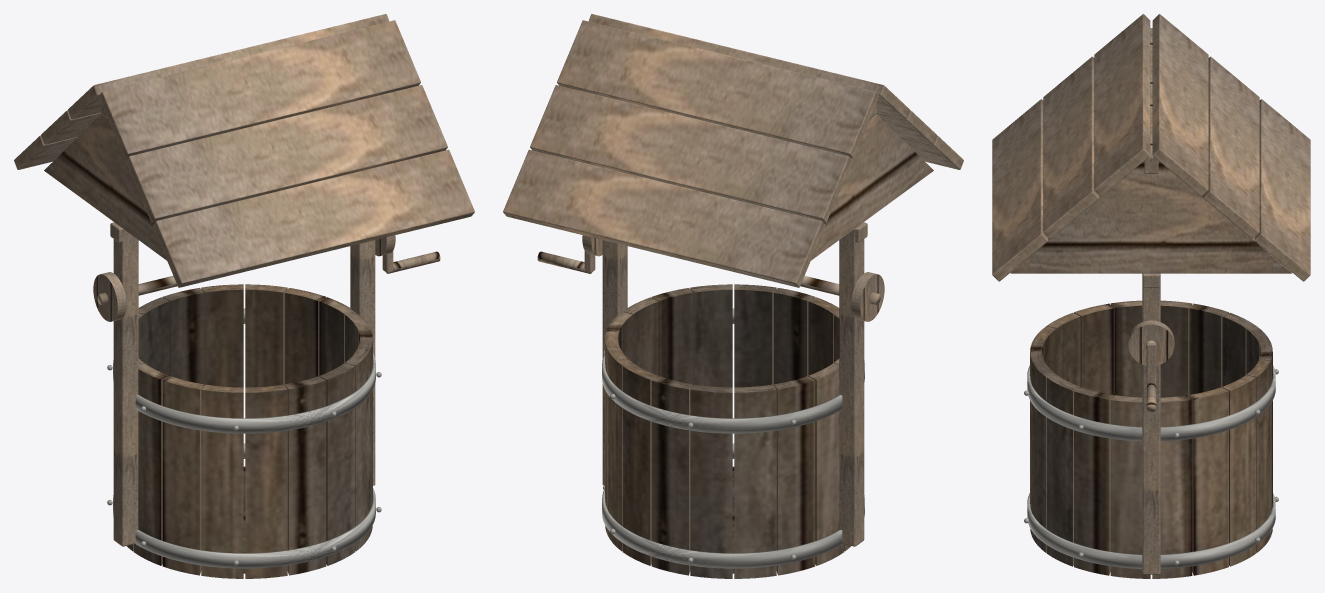
File: Brunnen.glb
3 renders of one model, left to right at view 1: azimuth 30°, elevation 25°; view 2: azimuth 150°, elevation 25°; view 3: azimuth 270°, elevation 25°, orthographic. The views are drawn at different scales.
Visible parts, largest first — view 1: Dachbrett, Dachbrett.002, Dachbrett.001, Pfosten, Daube_11, Daube_12, Giebel, Daube_10, Daube_13, Daube_14, Daube_09, Daube_02 (+16 smaller); view 2: Dachbrett.003, Dachbrett.005, Dachbrett.004, Pfosten, Daube_05, Daube_06, Giebel, Daube_04, Daube_07, Daube_03, Daube_08, Daube_14 (+16 smaller); view 3: Giebel.001, Dachbrett.002, Dachbrett.005, Dachbrett, Dachbrett.003, Dachbrett.001, Dachbrett.004, Daube_01, Daube_16, Daube_00, Daube_17, Daube_02 (+19 smaller).
Boxes of the visible parts, bbox=[...] form: Dachbrett: bbox=[152, 149, 474, 287]; Dachbrett.002: bbox=[99, 20, 420, 158]; Dachbrett.001: bbox=[126, 85, 447, 222]; Pfosten: bbox=[113, 229, 138, 546]; Daube_11: bbox=[201, 384, 243, 578]; Daube_12: bbox=[245, 384, 287, 578]; Giebel: bbox=[44, 114, 166, 260]; Daube_10: bbox=[162, 376, 204, 575]; Daube_13: bbox=[284, 376, 326, 575]; Daube_14: bbox=[319, 363, 355, 565]; Daube_09: bbox=[133, 363, 169, 565]; Daube_02: bbox=[245, 284, 287, 387]; Dachbrett.003: bbox=[503, 149, 825, 287]; Dachbrett.005: bbox=[557, 20, 878, 158]; Dachbrett.004: bbox=[530, 85, 851, 222]; Pfosten: bbox=[839, 229, 864, 546]; Daube_05: bbox=[690, 384, 732, 578]; Daube_06: bbox=[734, 384, 776, 578]; Giebel: bbox=[811, 114, 933, 260]; Daube_04: bbox=[651, 376, 693, 575]; Daube_07: bbox=[773, 376, 815, 575]; Daube_03: bbox=[622, 363, 658, 565]; Daube_08: bbox=[808, 363, 844, 565]; Daube_14: bbox=[734, 284, 776, 387]; Giebel.001: bbox=[1010, 161, 1292, 273]; Dachbrett.002: bbox=[1094, 14, 1150, 196]; Dachbrett.005: bbox=[1152, 14, 1208, 196]; Dachbrett: bbox=[992, 99, 1048, 281]; Dachbrett.003: bbox=[1254, 99, 1310, 281]; Dachbrett.001: bbox=[1043, 56, 1099, 238]; Dachbrett.004: bbox=[1203, 56, 1259, 238]; Daube_01: bbox=[1189, 387, 1228, 575]; Daube_16: bbox=[1074, 387, 1113, 575]; Daube_00: bbox=[1152, 395, 1192, 578]; Daube_17: bbox=[1110, 395, 1150, 578]; Daube_02: bbox=[1222, 375, 1256, 566].
Bounding box in the file's own units: 0.3394 × 0.45 × 0.291.
5 materials, 5 textured.
